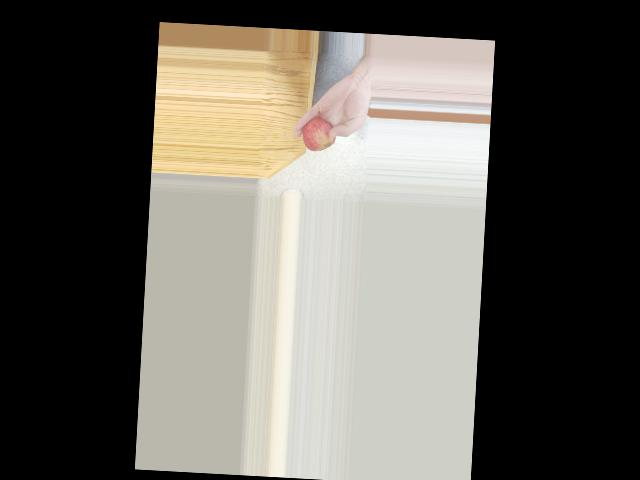apple: (300, 115, 336, 154)
